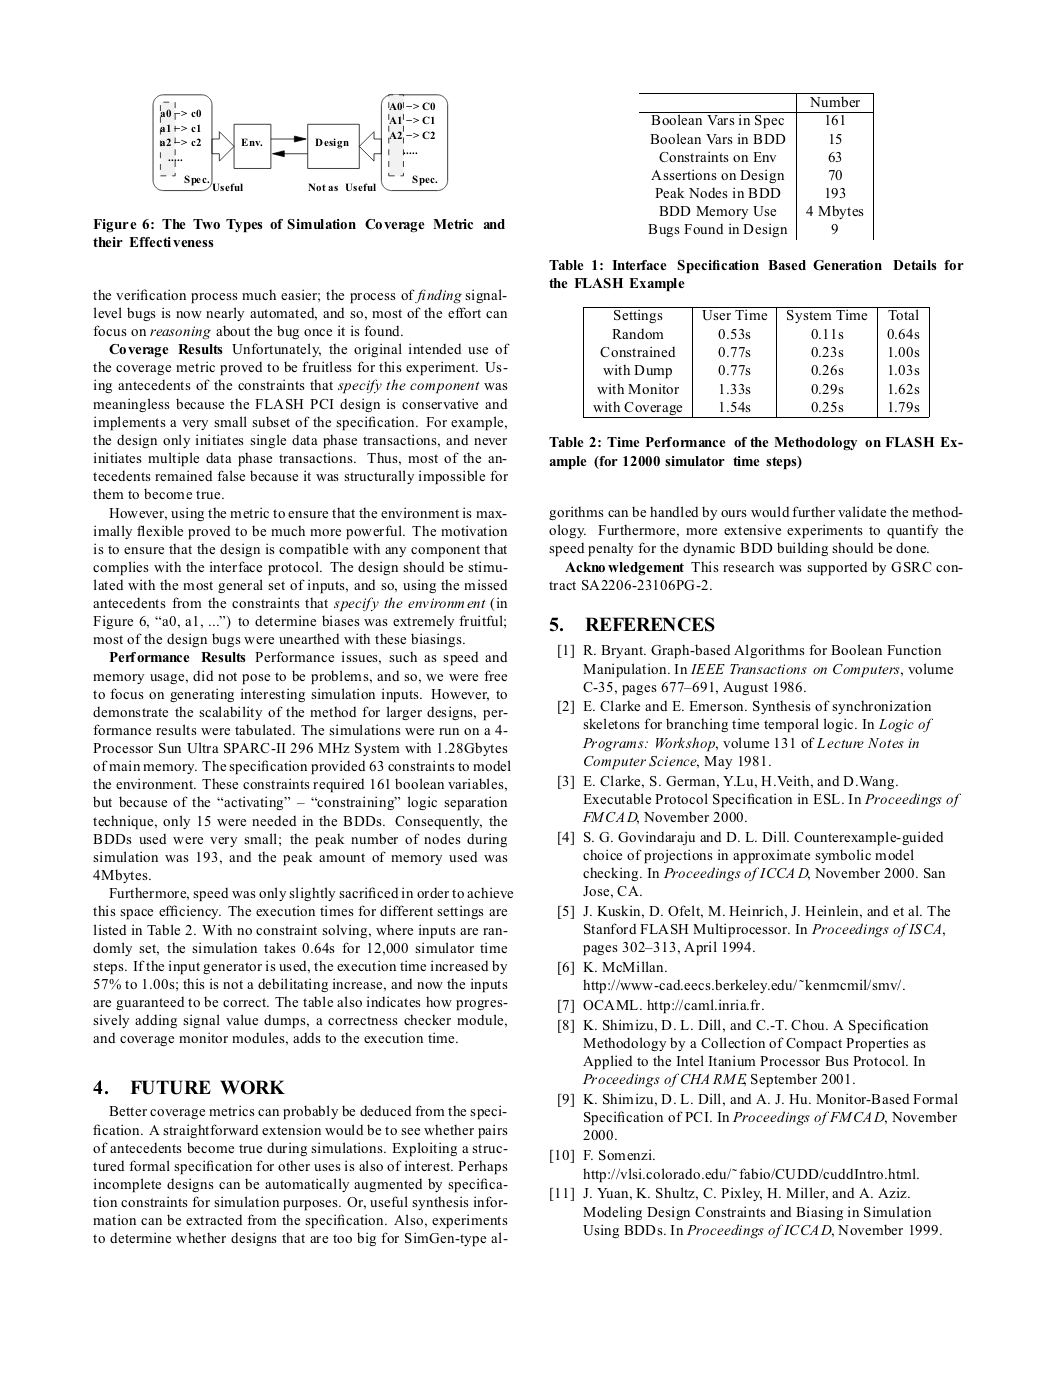Table: (583, 305, 929, 418), (639, 92, 873, 240)
figure: (152, 92, 448, 192)
